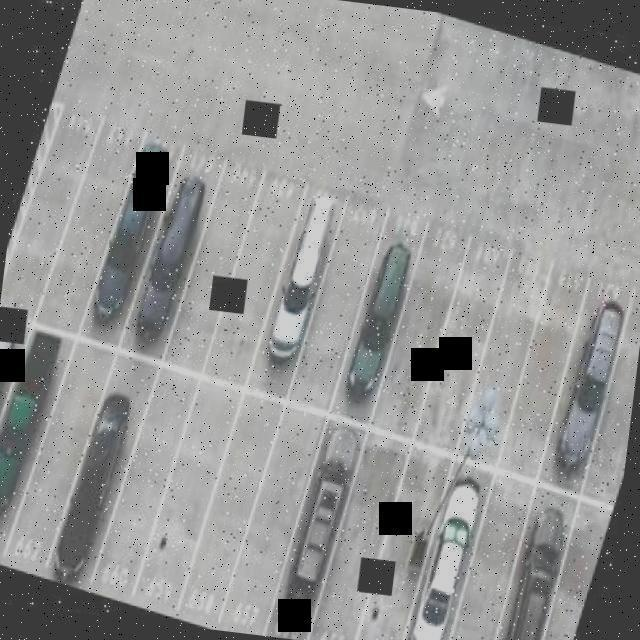space-empty: (543, 288, 626, 464), (4, 122, 85, 302), (101, 413, 176, 585), (212, 194, 292, 353), (229, 448, 303, 611), (189, 445, 262, 605), (149, 422, 220, 583), (446, 489, 523, 636), (384, 254, 455, 407), (50, 156, 121, 309), (27, 382, 97, 537), (460, 289, 528, 442), (330, 469, 396, 616), (365, 486, 432, 630), (516, 297, 578, 449), (182, 185, 243, 322), (299, 244, 363, 374), (591, 322, 640, 465), (533, 538, 599, 640), (432, 278, 485, 394)
space-occupied: (253, 196, 340, 381), (339, 228, 419, 410), (401, 475, 482, 640), (278, 448, 357, 617), (126, 184, 204, 342), (59, 393, 131, 564), (98, 137, 168, 306), (491, 501, 567, 640), (0, 340, 58, 496), (0, 333, 13, 487)
